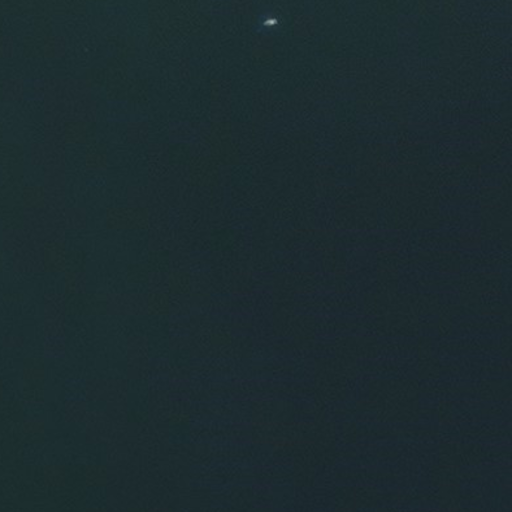ship: (260, 15, 281, 31)
